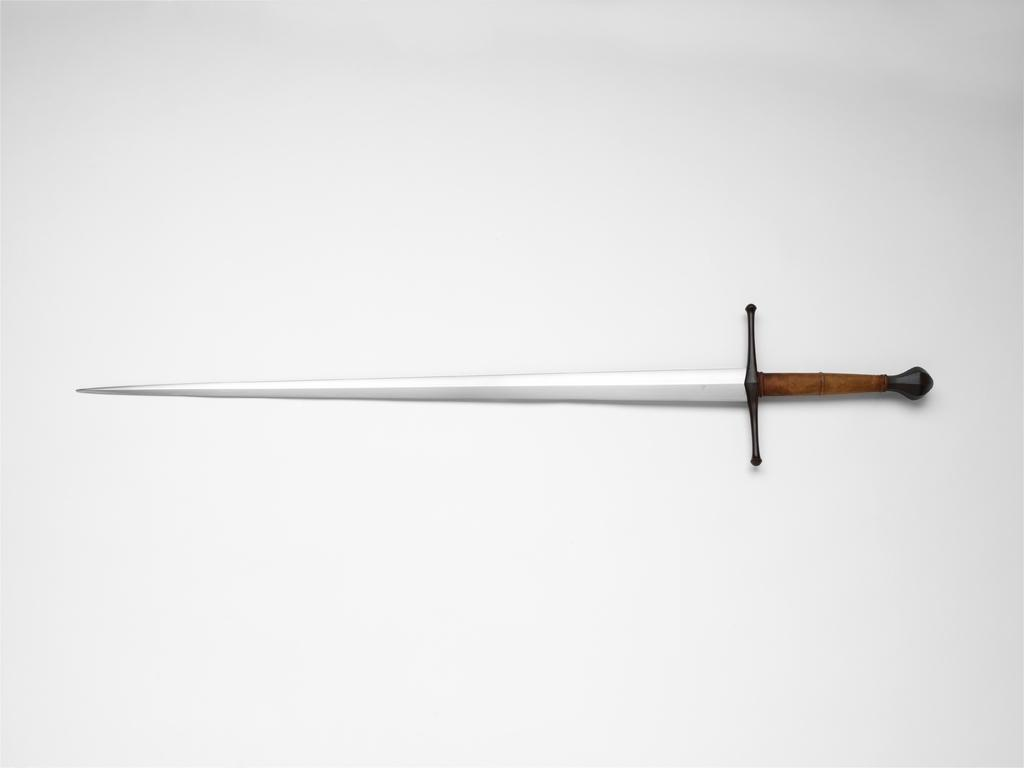Sword: (75, 304, 933, 465)
